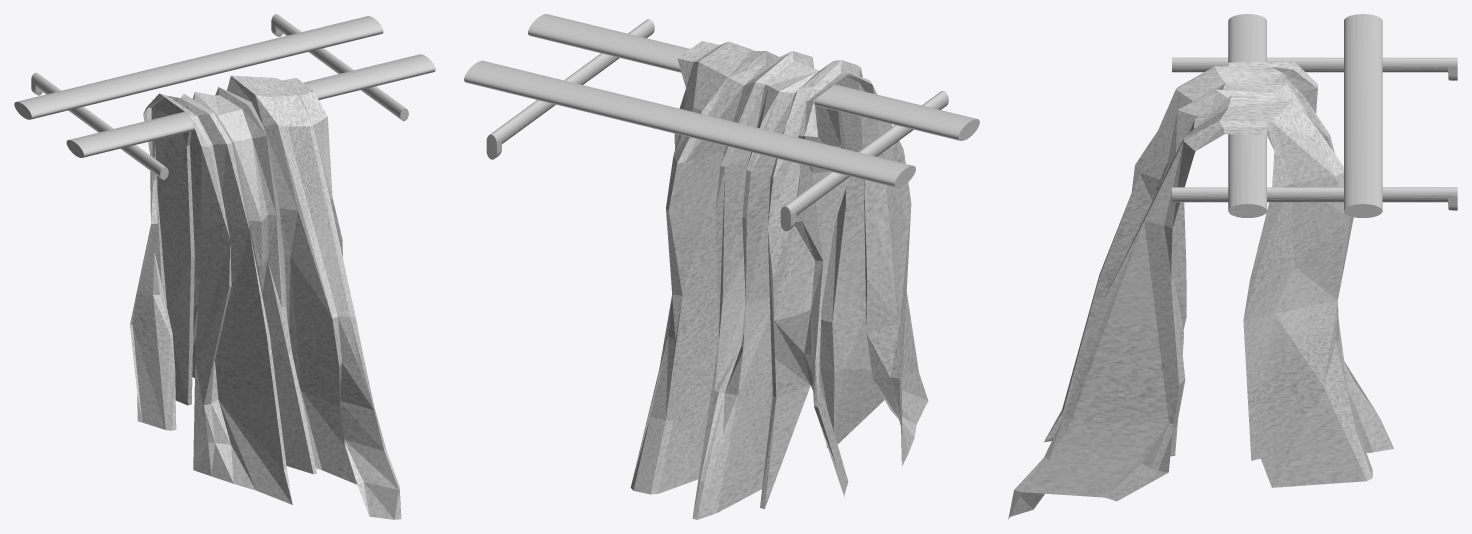
Rendered from sh-scopia-com-bath3.glb.
3 views of the same model, side by side, from view 1: azimuth 30°, elevation 25°; view 2: azimuth 150°, elevation 25°; view 3: azimuth 270°, elevation 25° (orthographic). The views are drawn at different scales.
Visible parts, largest first — view 1: A_toalla_blanc_Mesh, A_estanteria_metal_Cylinder.003; view 2: A_toalla_blanc_Mesh, A_estanteria_metal_Cylinder.003; view 3: A_toalla_blanc_Mesh, A_estanteria_metal_Cylinder.003.
Boxes of the visible parts, x1,y1,x2,y2 form: A_toalla_blanc_Mesh: [130, 75, 401, 519]; A_estanteria_metal_Cylinder.003: [14, 14, 435, 179]; A_toalla_blanc_Mesh: [630, 41, 928, 519]; A_estanteria_metal_Cylinder.003: [464, 14, 979, 231]; A_toalla_blanc_Mesh: [1008, 62, 1393, 519]; A_estanteria_metal_Cylinder.003: [1172, 14, 1457, 217].
Size of the model in its own units: 1 by 0.9842 by 1.
2 materials, 1 textured.
